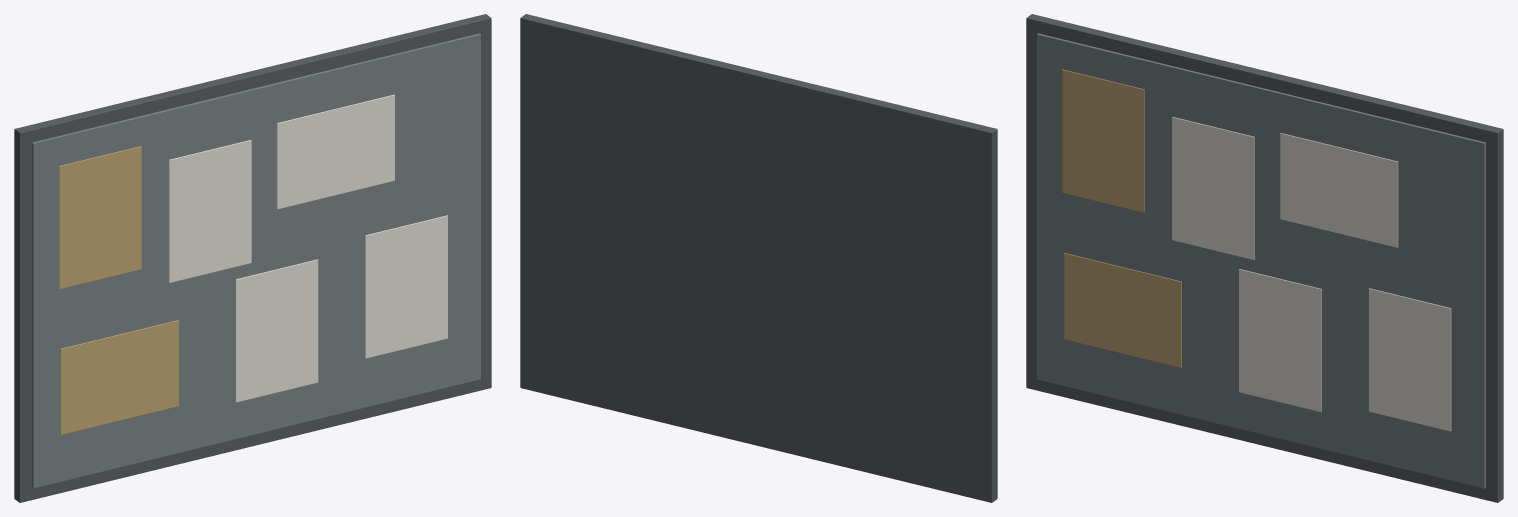
The model's file is PROP_NoticeBoard.glb.
3 renders of one model, left to right at view 1: azimuth 30°, elevation 25°; view 2: azimuth 150°, elevation 25°; view 3: azimuth 330°, elevation 25°, orthographic.
Parts seen in each view (by area): view 1: PROP_NoticeBoard_Mesh; view 2: PROP_NoticeBoard_Mesh; view 3: PROP_NoticeBoard_Mesh.
Part boxes in pixels (<box>): PROP_NoticeBoard_Mesh: <box>14,14,491,502</box>; PROP_NoticeBoard_Mesh: <box>520,14,997,502</box>; PROP_NoticeBoard_Mesh: <box>1026,14,1503,502</box>.
Size of the model in its own units: 1.2 by 0.9 by 0.033.
